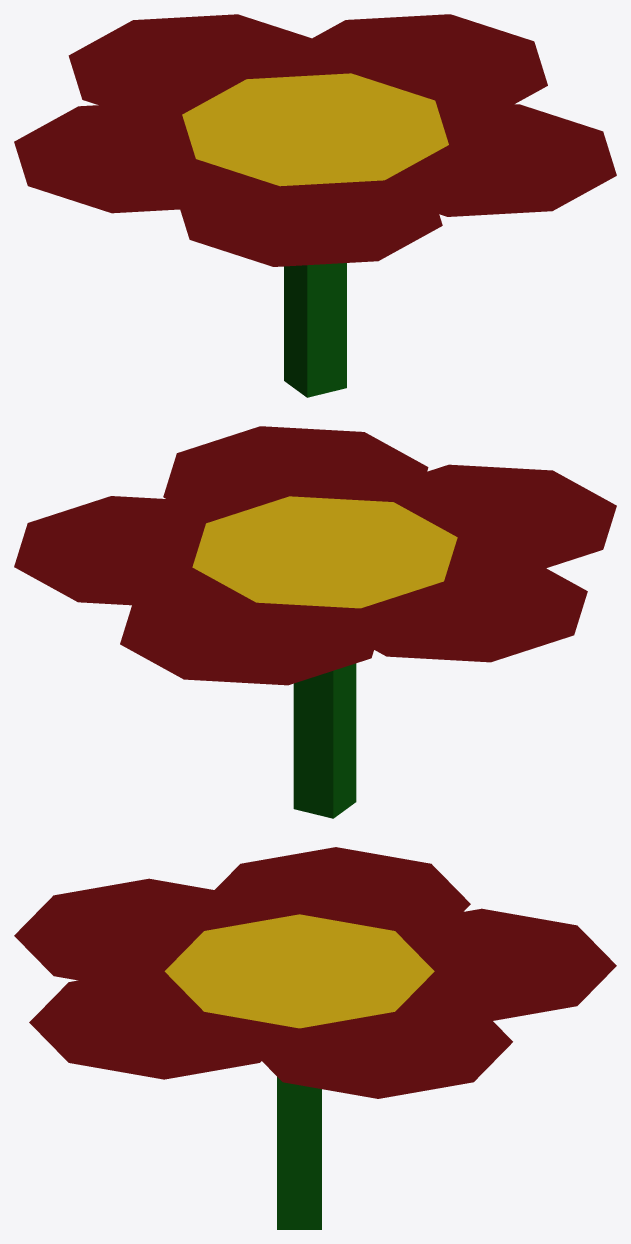
The model's file is flower.obj.
3 views of the same model, one above another, from view 1: azimuth 30°, elevation 25°; view 2: azimuth 150°, elevation 25°; view 3: azimuth 270°, elevation 25° (orthographic). The views are drawn at different scales.
Parts seen in each view (by area): view 1: Leaves, Polen, Stem; view 2: Leaves, Polen, Stem; view 3: Leaves, Polen, Stem.
Boxes of the visible parts, x1,y1,x2,y2 form: Leaves: (14,14,616,266); Polen: (182,73,448,186); Stem: (284,263,346,397); Leaves: (14,426,616,685); Polen: (192,496,457,608); Stem: (293,663,356,818); Leaves: (14,847,616,1098); Polen: (164,914,434,1028); Stem: (277,1077,321,1229).
Size of the model in its own units: 1.32 by 0.61 by 1.34.
